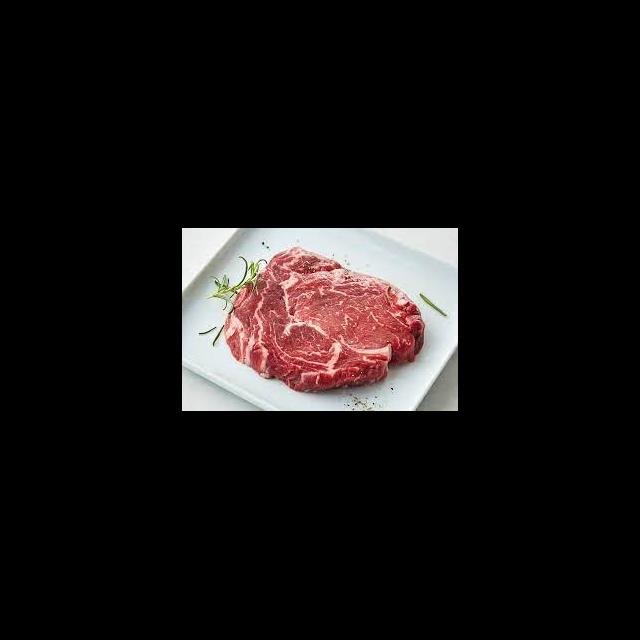beef: (224, 249, 426, 391)
